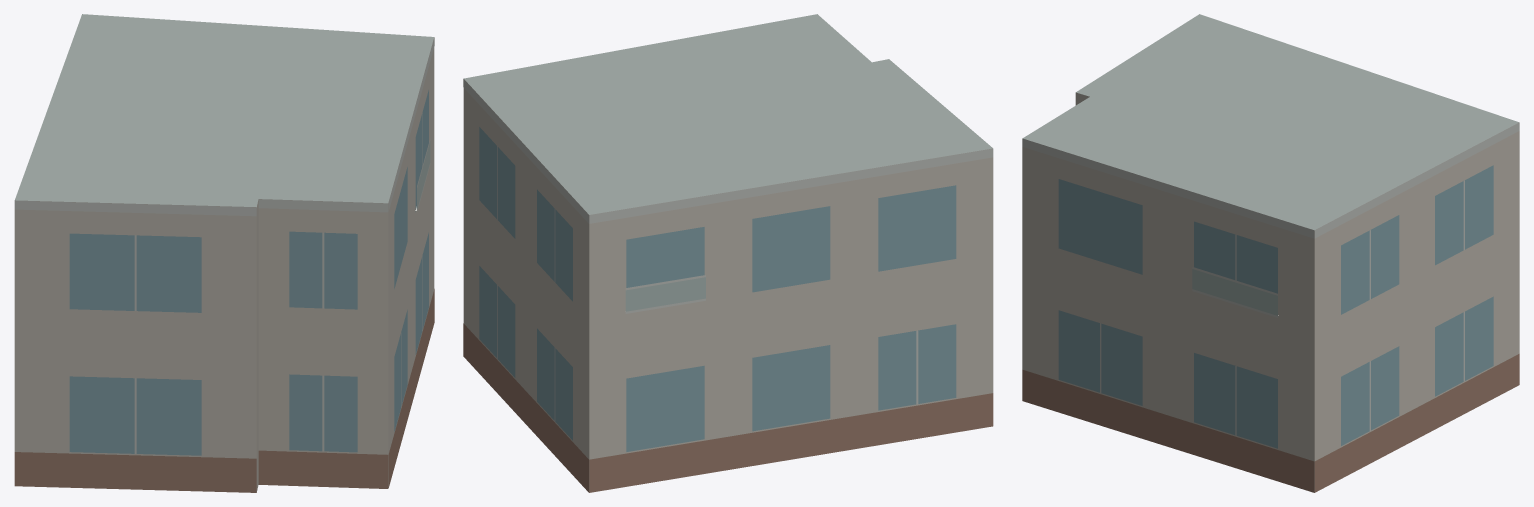
File: survey-upis-32963456.glb
3 views of the same model, side by side, from view 1: azimuth 30°, elevation 25°; view 2: azimuth 150°, elevation 25°; view 3: azimuth 270°, elevation 25° (orthographic). The views are drawn at different scales.
Visible parts, largest first — view 1: survey-upis-32963456.tmp; view 2: survey-upis-32963456.tmp; view 3: survey-upis-32963456.tmp.
Part boxes in pixels (x1=…): survey-upis-32963456.tmp: x1=14, y1=14, x2=434, y2=492; survey-upis-32963456.tmp: x1=463, y1=14, x2=993, y2=492; survey-upis-32963456.tmp: x1=1022, y1=14, x2=1519, y2=492.
Size of the model in its own units: 13.43 by 7.6 by 13.05.
